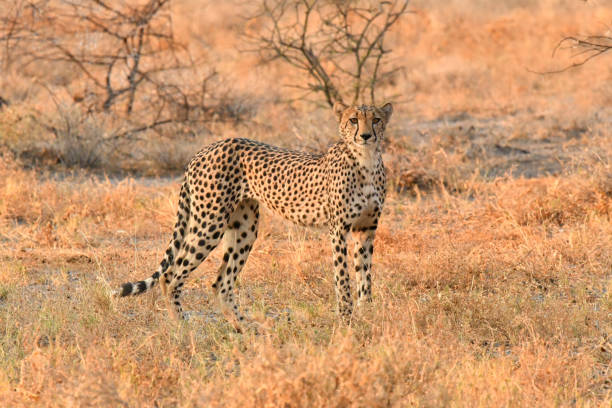cheetah: (327, 95, 401, 161)
